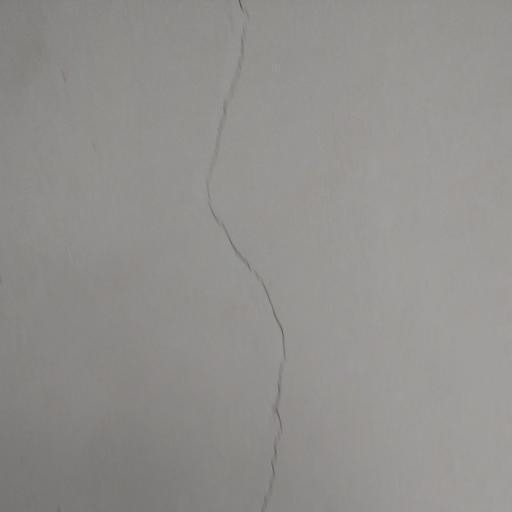minor_crack: (200, 0, 294, 512)
